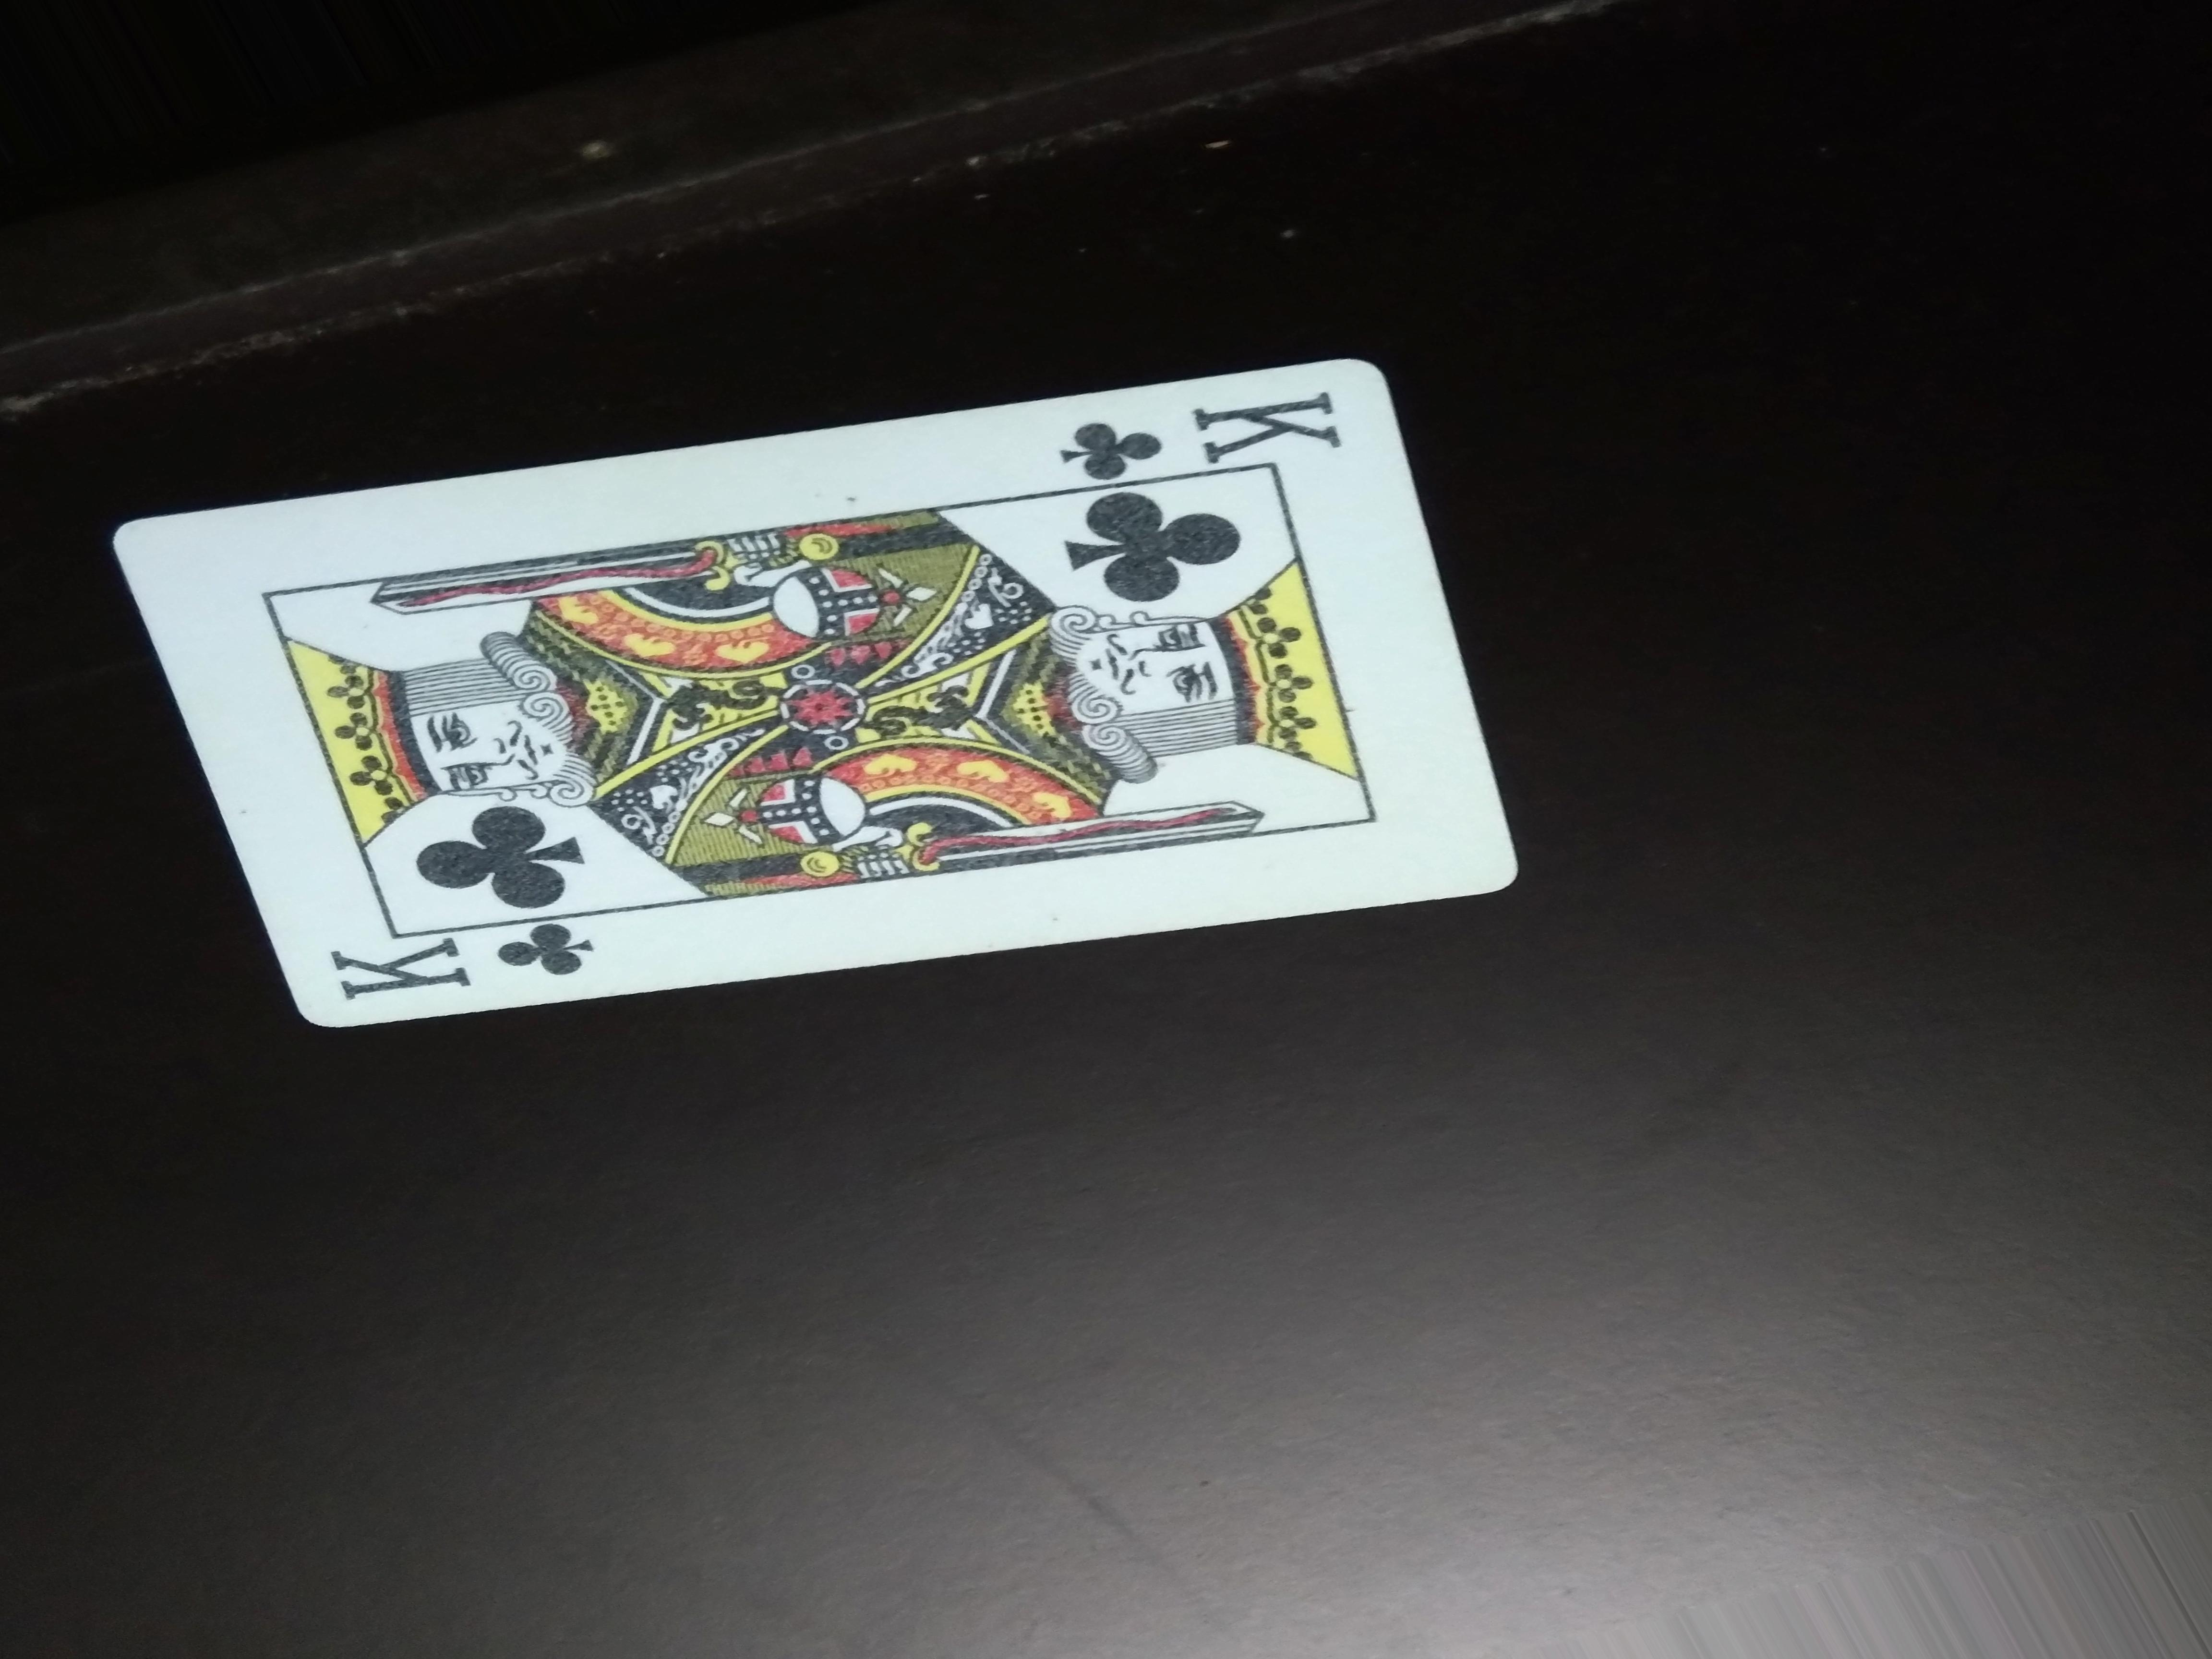KC: (1059, 387, 1367, 481)
